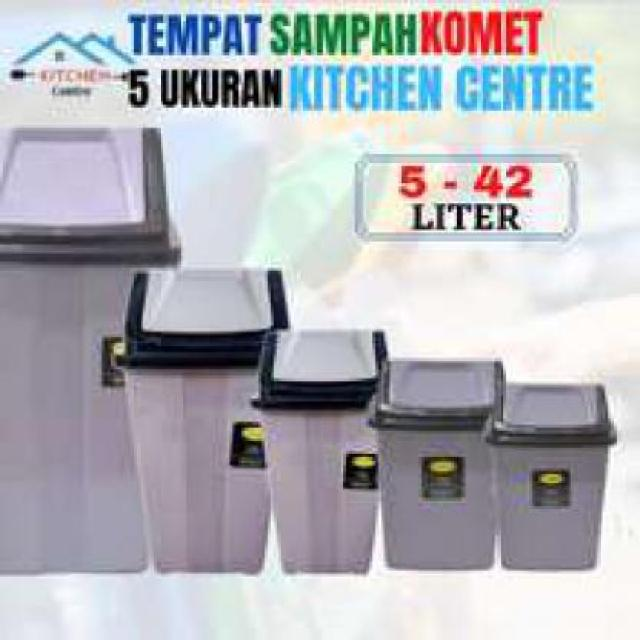garbage container: (2, 122, 181, 580), (118, 267, 297, 579), (250, 323, 384, 591), (488, 375, 626, 579), (382, 349, 506, 576)
